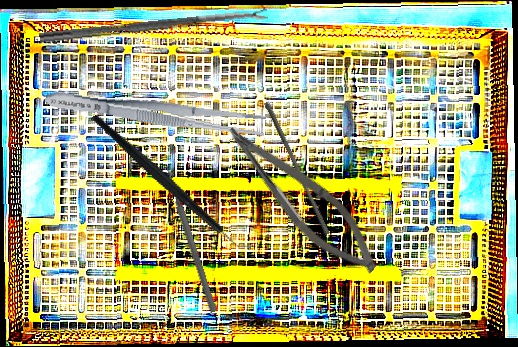Chopper: (90, 78, 255, 285)
Dressing Forceps: (43, 85, 267, 140)
Micro Scissor: (208, 115, 394, 286)
Pusher: (258, 101, 335, 236), (162, 164, 219, 314)
Surgical Spoon: (39, 9, 268, 44)
